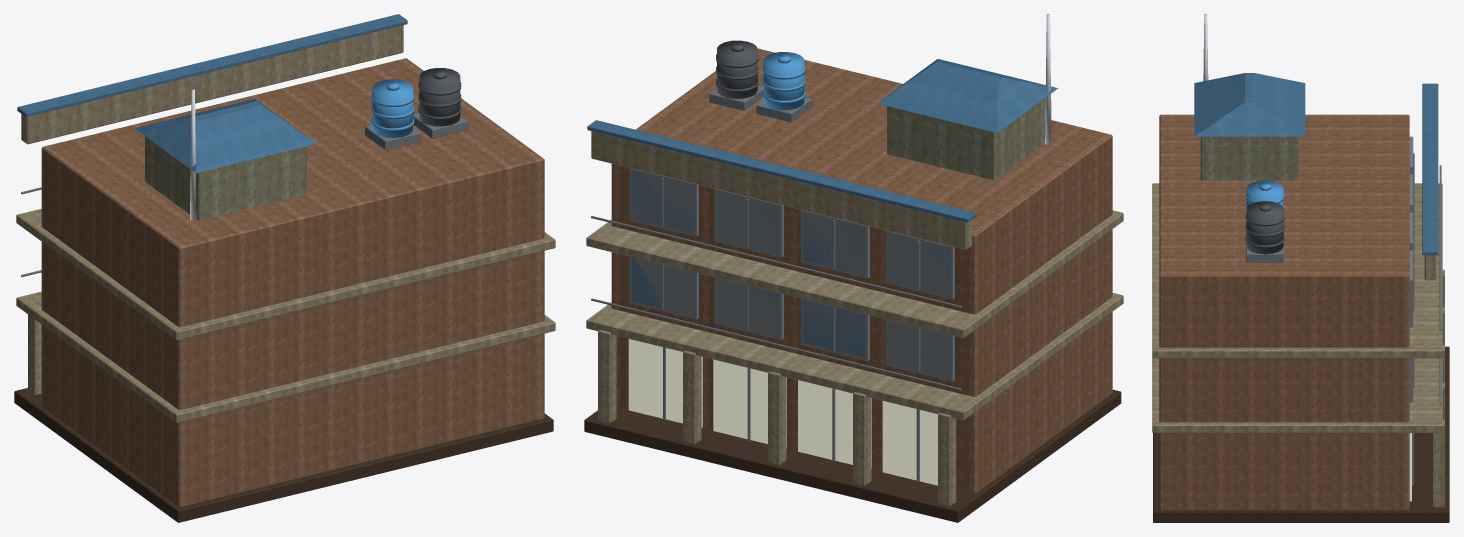
File: Kenya_Plaza_3Story.glb
3 renders of one model, left to right at view 1: azimuth 30°, elevation 25°; view 2: azimuth 150°, elevation 25°; view 3: azimuth 270°, elevation 25°, orthographic. The views are drawn at different scales.
Parts seen in each view (by area): view 1: PlazaCore, ParapetFront, PlazaPlinth, RoofPenthouse, FloorBand_0, FloorBand_1, PentRoof, ParapetCap, PlazaTank1_Body, PlazaTank2_Body, ArcadeCol_-6.9, RoofMast (+2 smaller); view 2: PlazaCore, PlazaPlinth, FloorBand_1, FloorBand_0, ParapetFront, RoofPenthouse, PentRoof, ParapetCap, ArcadeGlass_1.7, ArcadeGlass_5.2, ArcadeGlass_-1.7, ArcadeGlass_-5.2 (+26 smaller); view 3: PlazaCore, FloorBand_1, PlazaPlinth, PentRoof, FloorBand_0, RoofPenthouse, ParapetCap, PlazaTank2_Body, ArcadeCol_6.9, PlazaTank1_Body, PlazaRail_1, PlazaTank2_Stand (+1 smaller).
Boxes of the visible parts, x1,y1,x2,y2 form: PlazaCore: (41, 58, 544, 506); ParapetFront: (21, 25, 403, 144); PlazaPlinth: (14, 388, 553, 522); RoofPenthouse: (145, 136, 306, 220); FloorBand_0: (16, 291, 555, 422); FloorBand_1: (16, 209, 555, 340); PentRoof: (135, 99, 316, 173); ParapetCap: (17, 14, 407, 116); PlazaTank1_Body: (372, 79, 413, 137); PlazaTank2_Body: (419, 68, 460, 126); ArcadeCol_-6.9: (28, 314, 41, 394); RoofMast: (190, 89, 196, 220); PlazaCore: (611, 48, 1112, 493); PlazaPlinth: (584, 389, 1121, 522); FloorBand_1: (586, 210, 1123, 337); FloorBand_0: (586, 293, 1123, 420); ParapetFront: (591, 131, 972, 249); RoofPenthouse: (887, 98, 1045, 180); PentRoof: (877, 59, 1057, 132); ParapetCap: (587, 120, 976, 222); ArcadeGlass_1.7: (713, 359, 786, 447); ArcadeGlass_5.2: (628, 339, 702, 427); ArcadeGlass_-1.7: (798, 380, 871, 467); ArcadeGlass_-5.2: (882, 401, 937, 485); PlazaCore: (1159, 114, 1409, 509); FloorBand_1: (1152, 183, 1442, 358); PlazaPlinth: (1153, 346, 1449, 522); PentRoof: (1194, 73, 1305, 136); FloorBand_0: (1152, 358, 1442, 432); RoofPenthouse: (1200, 136, 1298, 180); ParapetCap: (1422, 83, 1438, 255); PlazaTank2_Body: (1246, 201, 1283, 254); ArcadeCol_6.9: (1432, 420, 1444, 507); PlazaTank1_Body: (1246, 180, 1283, 206); PlazaRail_1: (1439, 165, 1441, 330); PlazaTank2_Stand: (1246, 242, 1283, 262).
Bounding box in the file's own units: 15.45 × 15.5 × 11.53.
Materials: 12 (5 with a texture image).
